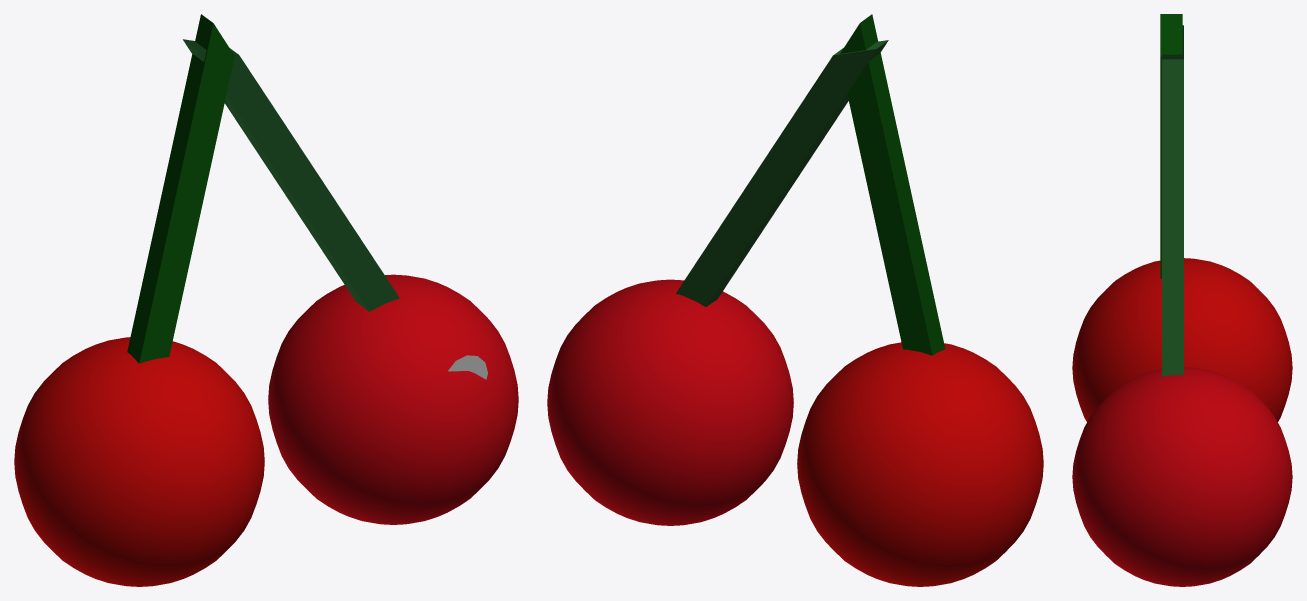
Rendered from cherry.fbx.
3 views of the same model, side by side, from view 1: azimuth 30°, elevation 25°; view 2: azimuth 150°, elevation 25°; view 3: azimuth 270°, elevation 25° (orthographic). The views are drawn at different scales.
Visible parts, largest first — view 1: Sphere, Sphere1, Text, Text1; view 2: Sphere, Sphere1, Text, Text1; view 3: Sphere1, Sphere, Text1, Text.
Part boxes in pixels (left/top/right/bottom): Sphere: left=14, top=337, right=264, bottom=586; Sphere1: left=268, top=274, right=518, bottom=524; Text: left=127, top=14, right=234, bottom=363; Text1: left=183, top=39, right=399, bottom=311; Sphere: left=797, top=342, right=1043, bottom=586; Sphere1: left=547, top=279, right=793, bottom=525; Text: left=840, top=14, right=945, bottom=355; Text1: left=676, top=40, right=888, bottom=306; Sphere1: left=1072, top=367, right=1292, bottom=586; Sphere: left=1072, top=258, right=1292, bottom=421; Text1: left=1162, top=25, right=1183, bottom=376; Text: left=1160, top=14, right=1182, bottom=278.
Size of the model in its own units: 2.17 by 2.41 by 1.
